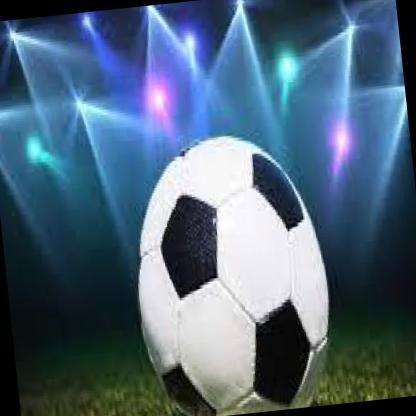ball: (116, 121, 339, 416)
